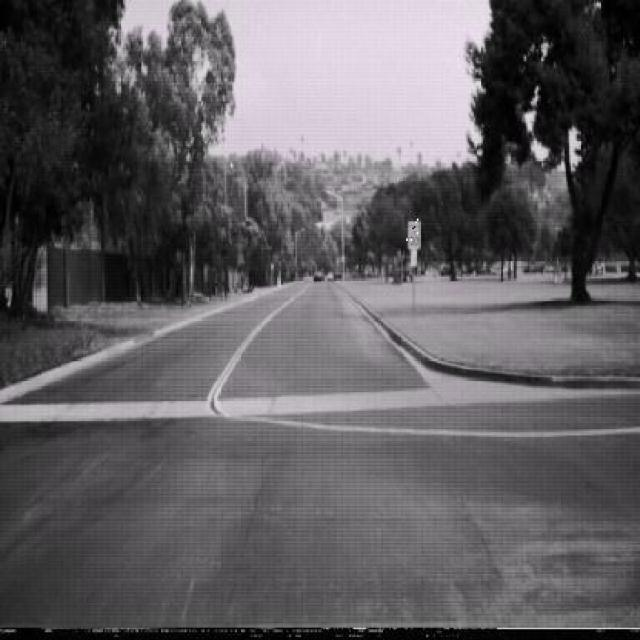speedLimit30: (406, 218, 420, 250)
